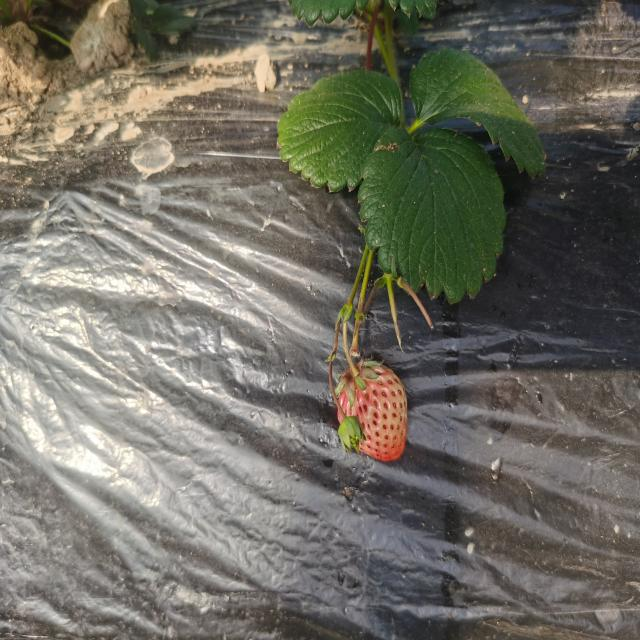stem: (343, 327, 360, 380)
strawberry: (338, 360, 407, 460)
